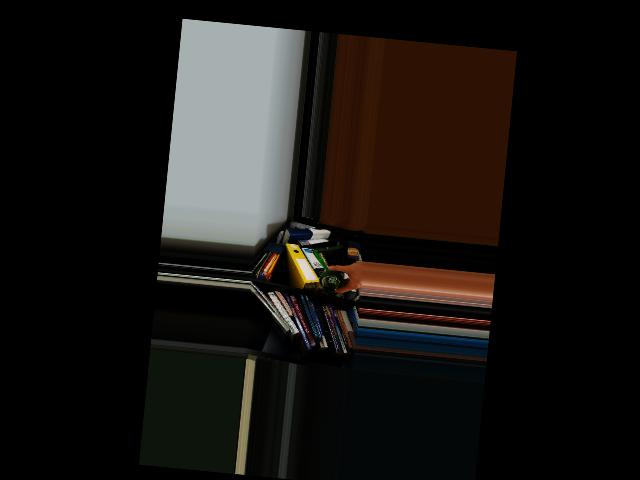beer: (318, 266, 343, 294)
